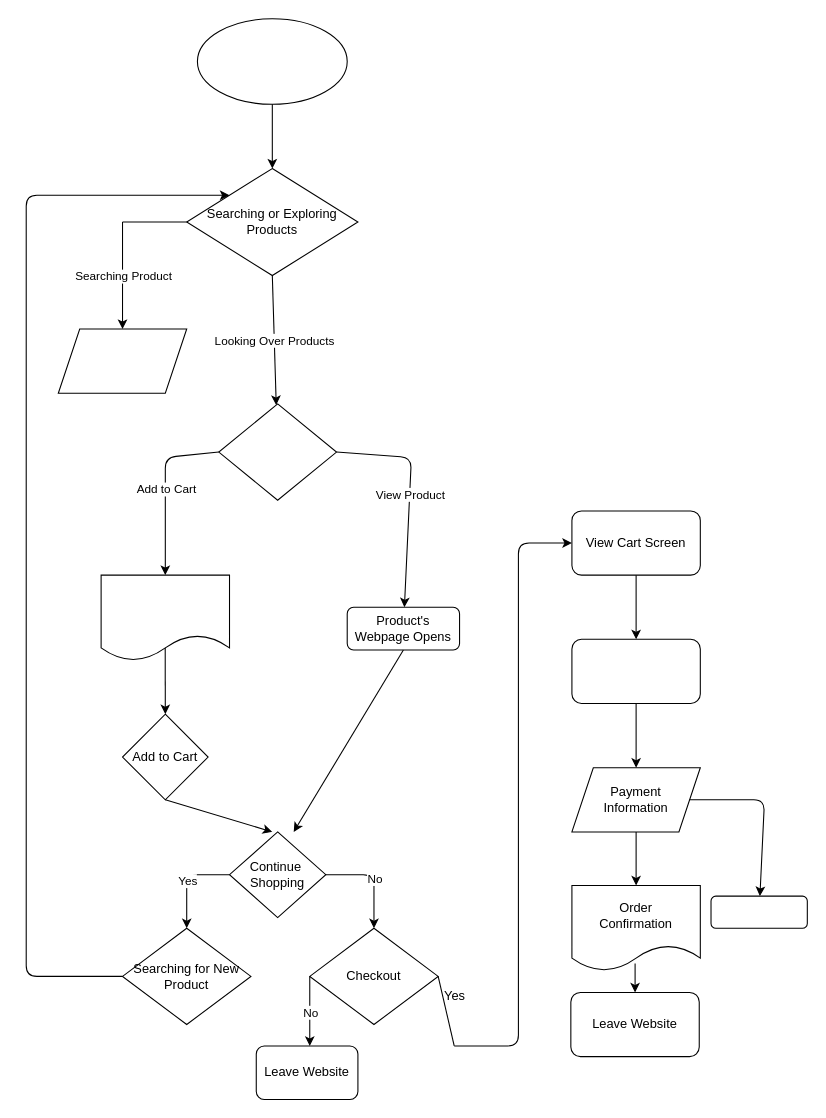
Some shapes in this 826 by 1118 pixel diagram are drawn without their labels. The shapes that lost their labels are listed below. From the top down, each one's centre as x and y in pixels, then its label:
point (271, 61): User Enters Website
point (122, 360): User Provides Input
point (277, 451): Viewing Product
point (165, 617): Add to Cart Confirmation
point (635, 671): View Payment Screen
point (758, 911): Email Sent
